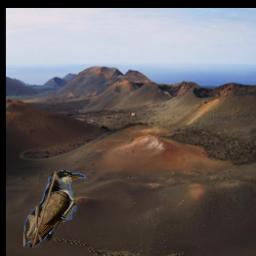Cuckoo: (24, 170, 100, 248)
